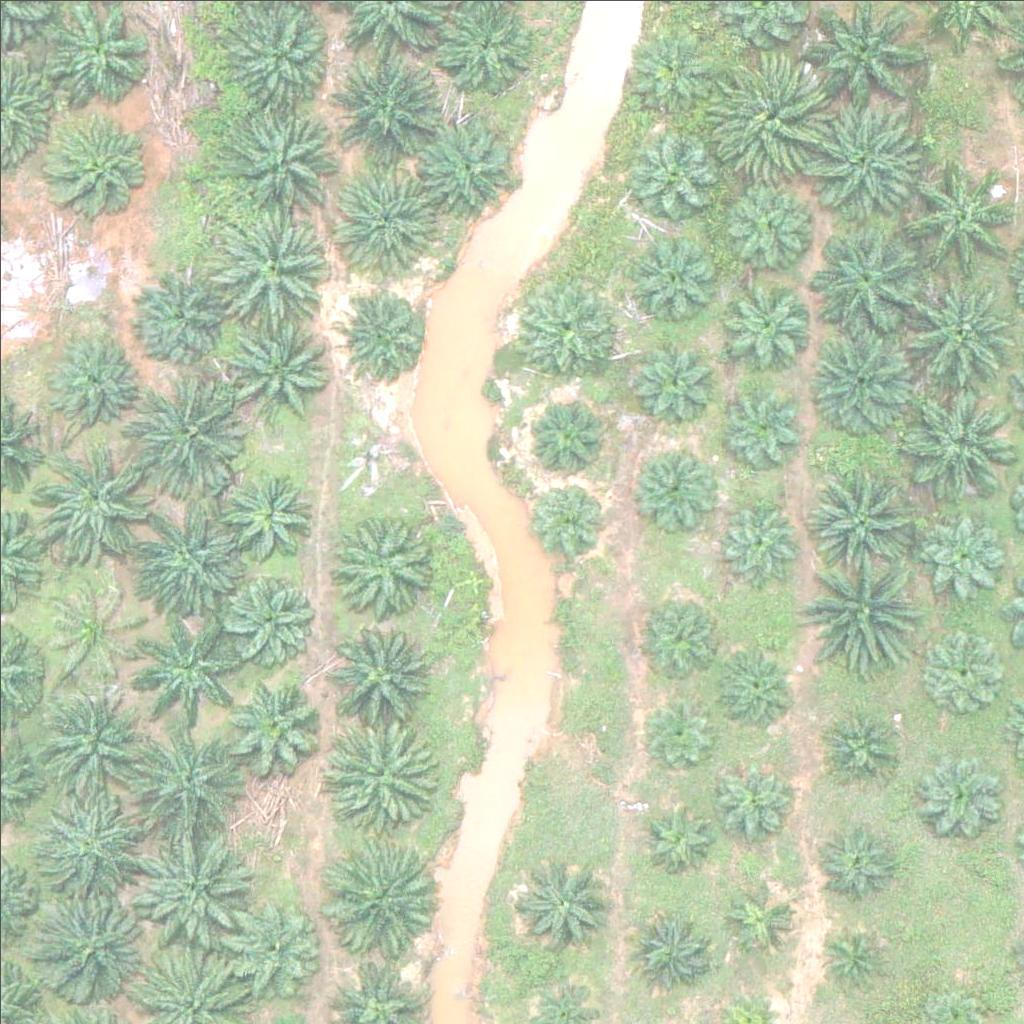Kelapa_Sawit: (217, 3, 330, 117), (129, 375, 242, 489), (226, 98, 339, 212), (328, 162, 441, 276), (322, 844, 435, 958), (811, 325, 924, 439), (128, 502, 241, 615), (138, 828, 251, 941), (326, 721, 439, 834), (712, 62, 825, 175), (804, 549, 917, 662), (807, 228, 920, 341), (34, 789, 146, 903), (33, 676, 145, 790), (40, 111, 152, 225), (330, 54, 442, 168), (320, 611, 432, 725), (801, 100, 913, 214), (26, 892, 138, 1006), (37, 446, 149, 559), (132, 615, 244, 728), (128, 730, 240, 843), (216, 322, 328, 435), (212, 208, 324, 321), (807, 456, 919, 569), (900, 162, 1012, 275), (900, 271, 1012, 384), (904, 383, 1016, 496), (39, 585, 139, 686), (132, 267, 232, 368), (222, 567, 322, 668), (218, 471, 318, 572), (329, 515, 429, 616), (514, 851, 614, 952), (516, 282, 616, 383), (624, 221, 724, 322), (416, 114, 516, 215), (43, 322, 143, 422), (225, 675, 325, 775), (714, 176, 814, 276), (710, 272, 810, 372), (222, 898, 322, 998), (709, 757, 797, 846), (811, 814, 899, 902), (823, 698, 911, 786), (639, 591, 727, 679), (625, 30, 713, 118), (716, 381, 804, 469), (917, 622, 1005, 710), (623, 905, 711, 993), (341, 294, 428, 382), (711, 643, 798, 731), (718, 495, 805, 583), (629, 438, 716, 526), (522, 392, 609, 480), (628, 122, 715, 210), (633, 343, 720, 431), (916, 751, 1003, 839), (919, 509, 1006, 597), (640, 690, 715, 766), (531, 477, 606, 553), (817, 917, 892, 993), (725, 880, 800, 955), (637, 796, 712, 871)
